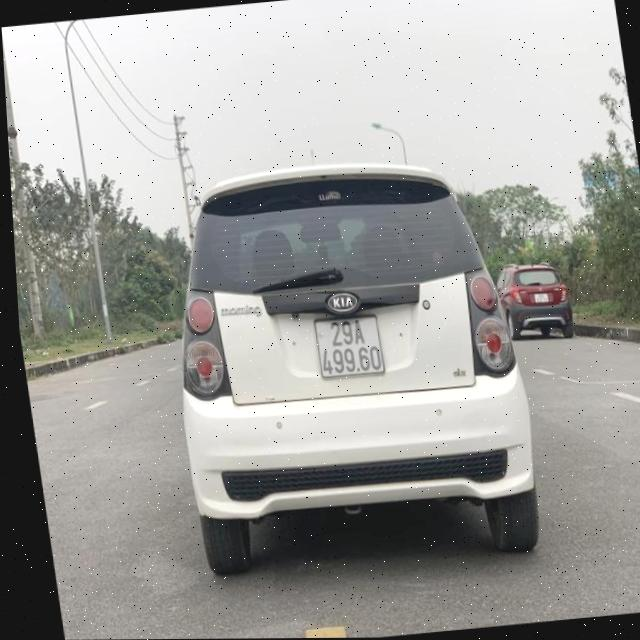car: (131, 141, 565, 581), (490, 256, 579, 343)
plate: (488, 257, 580, 341), (300, 306, 396, 385), (528, 289, 555, 307)
